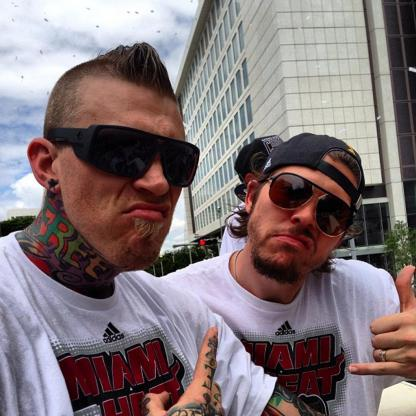face: (63, 77, 187, 267), (251, 148, 358, 278)
